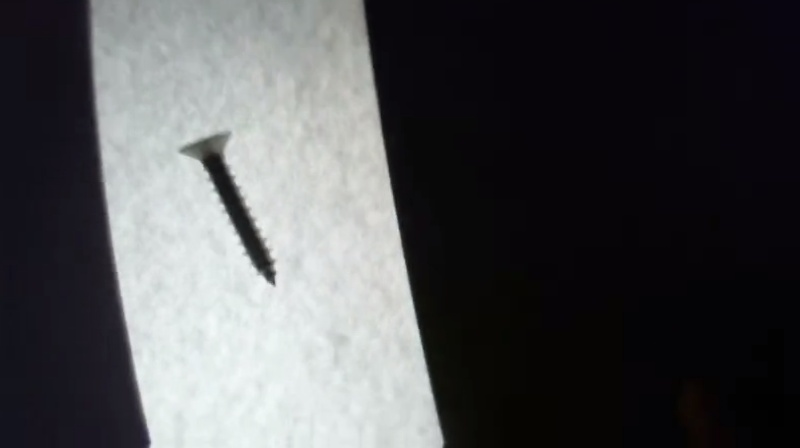S001: (173, 125, 285, 291)
